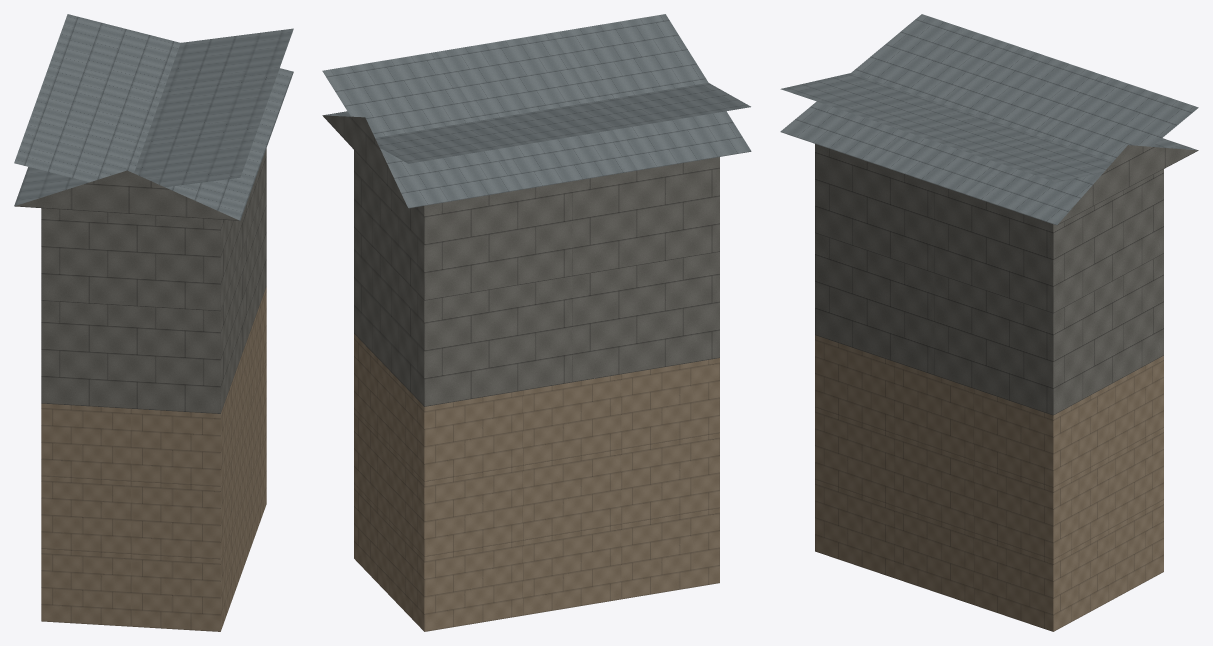
File: bld_c7_33_488.gltf
The picture shows the model from 3 angles, left to right: view 1: azimuth 30°, elevation 25°; view 2: azimuth 150°, elevation 25°; view 3: azimuth 270°, elevation 25°; orthographic projection. The views are drawn at different scales.
Parts seen in each view (by area): view 1: bld_c7_33_488; view 2: bld_c7_33_488; view 3: bld_c7_33_488.
Part boxes in pixels (<box>): bld_c7_33_488: <box>14,14,293,631</box>; bld_c7_33_488: <box>322,14,751,631</box>; bld_c7_33_488: <box>780,14,1198,631</box>.
Bounding box in the file's own units: 8.43 × 10.8 × 8.85.
4 materials, 4 textured.
